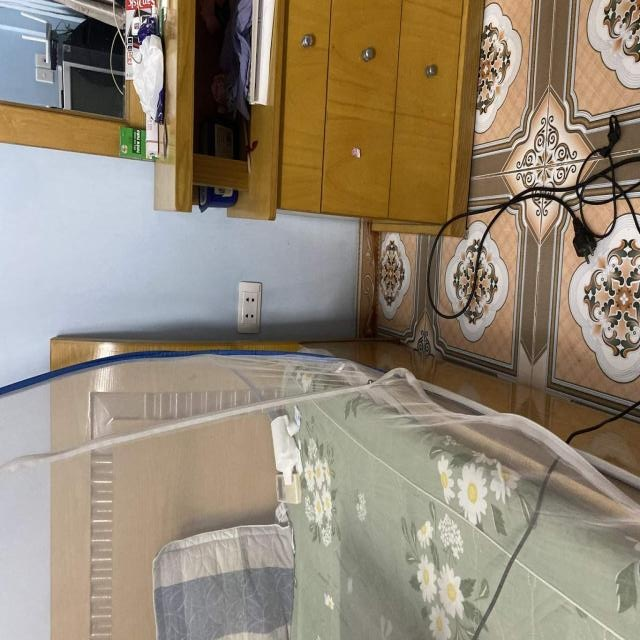outlet: (236, 282, 261, 334)
